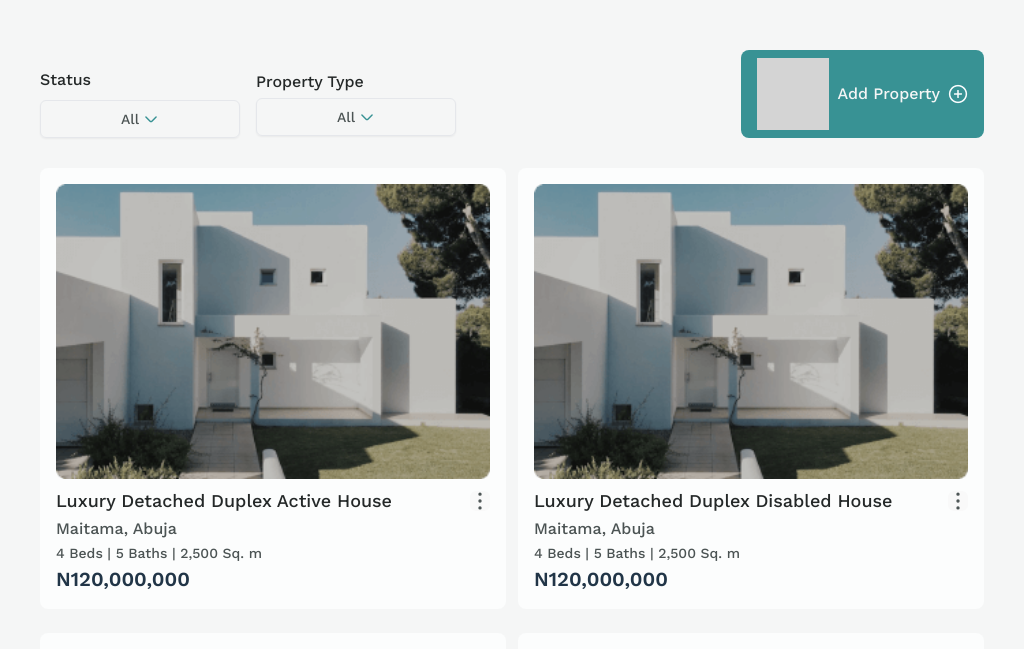
PropertiesFilterDropDown behavior › should show the value of the selected option as new button label
The image size is (1024, 649).
Click the button with test id "properties-filter-dropdown-trigger". click: point(356, 117)
box: [256, 98, 456, 136]
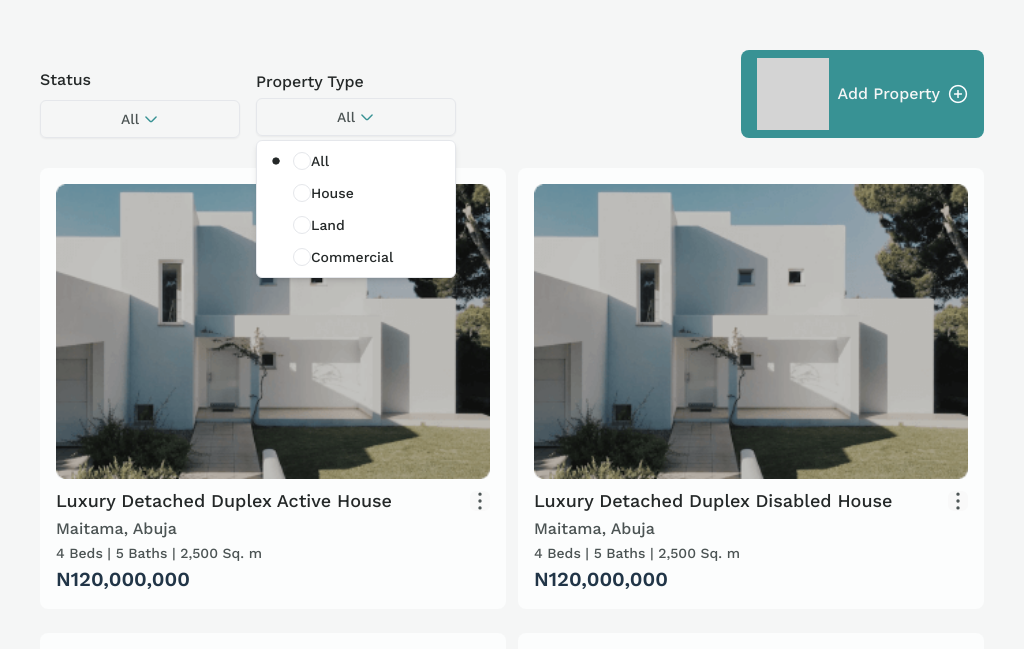
Result: the menu with test id "properties-filter-dropdown-menu" is shown at [256, 140, 456, 278]
Press Arrowdown Arrowdown Enter
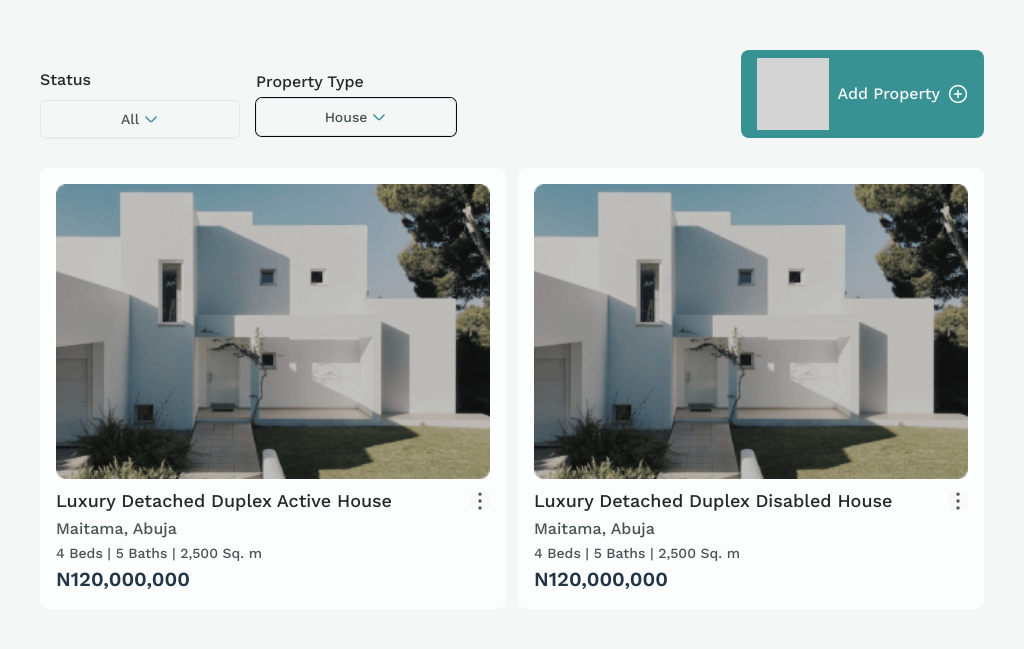
Result: the button with test id "properties-filter-dropdown-trigger" reads "house" at [256, 98, 456, 136]
